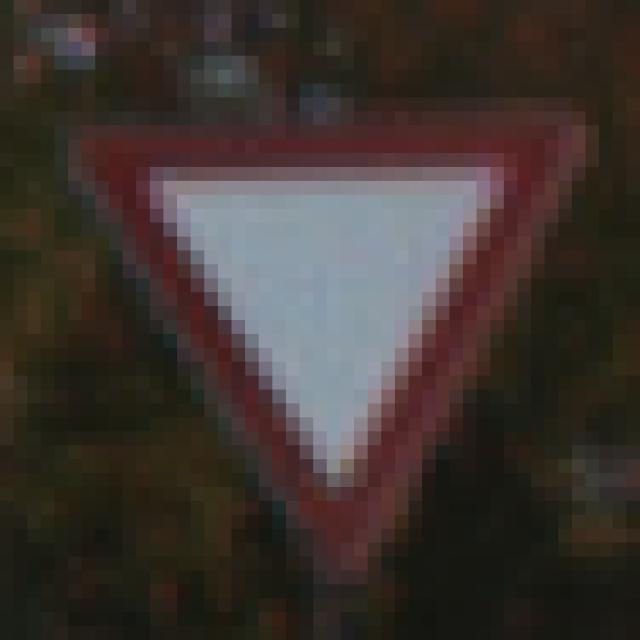Give Way: (69, 85, 573, 572)
